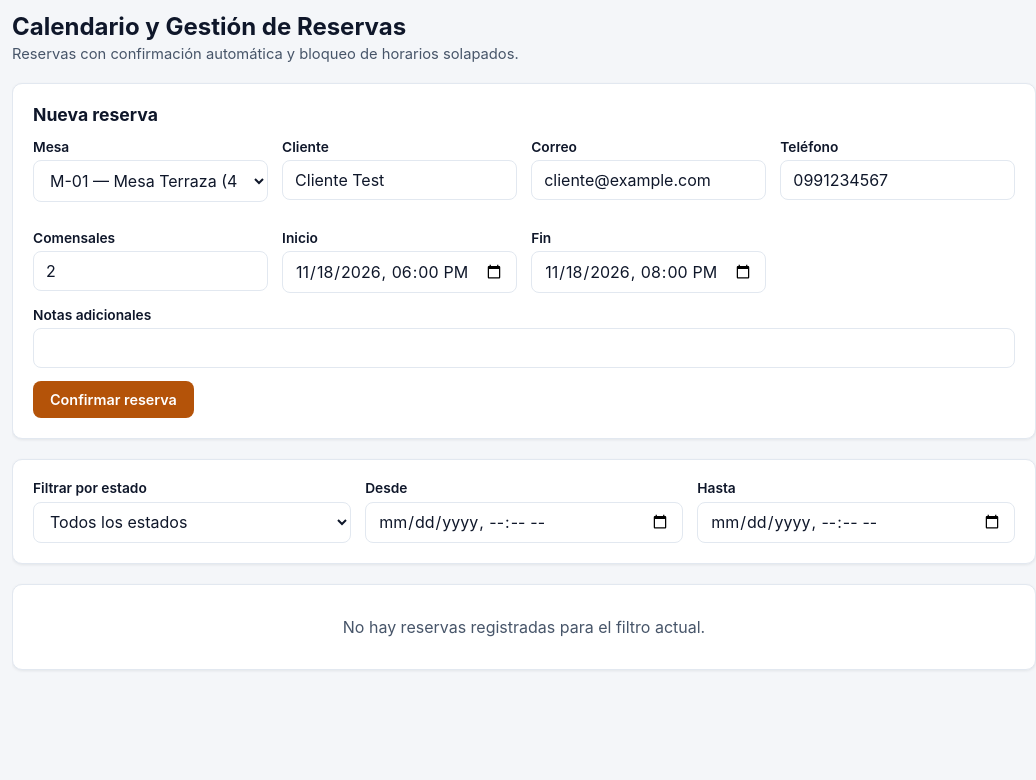
Test: Flujos de disponibilidad, reservas y pedidos › muestra conflicto 409 al intentar reserva solapada en ReservationsPage
Expected: the dropdown labelled "Mesa" shows "M-01 — Mesa Terraza (4 pers.)", x1=33 y1=160 x2=268 y2=202
Click the button "Confirmar reserva" at (113, 400), box x1=33 y1=381 x2=194 y2=418
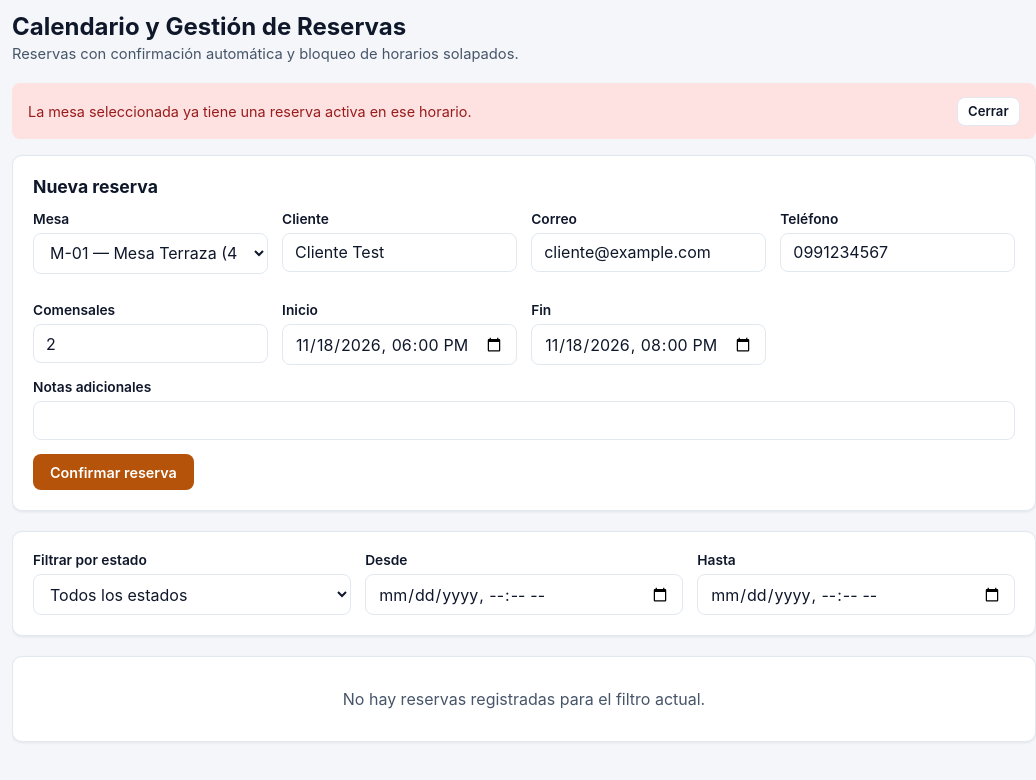
Result: the message shows "La mesa seleccionada ya tiene una reserva activa en ese horario." at x1=28 y1=103 x2=472 y2=120
